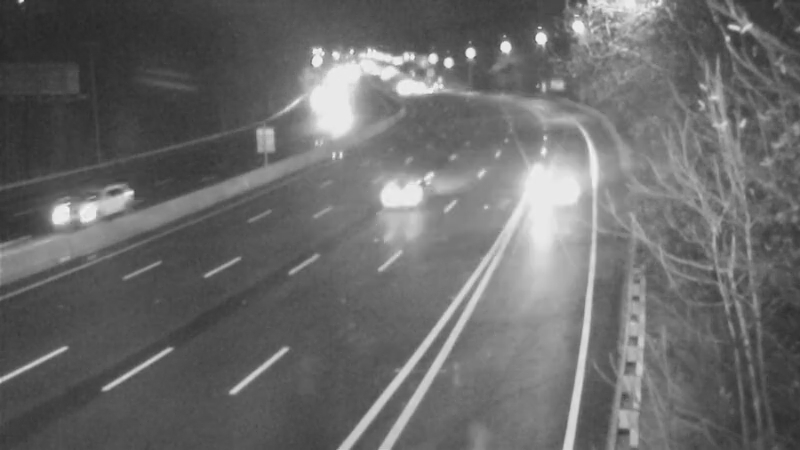vehicle: (515, 150, 595, 230), (363, 146, 443, 226), (29, 170, 109, 250), (306, 98, 356, 148)
